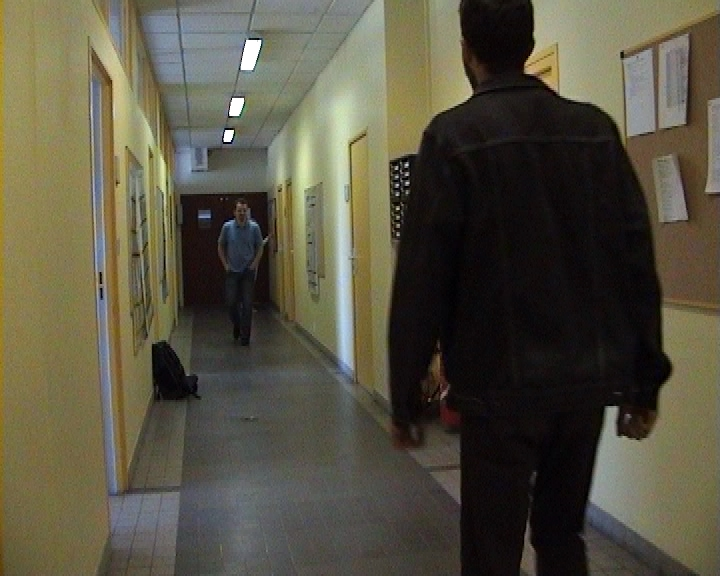leave bag unattended: (138, 316, 210, 421)
